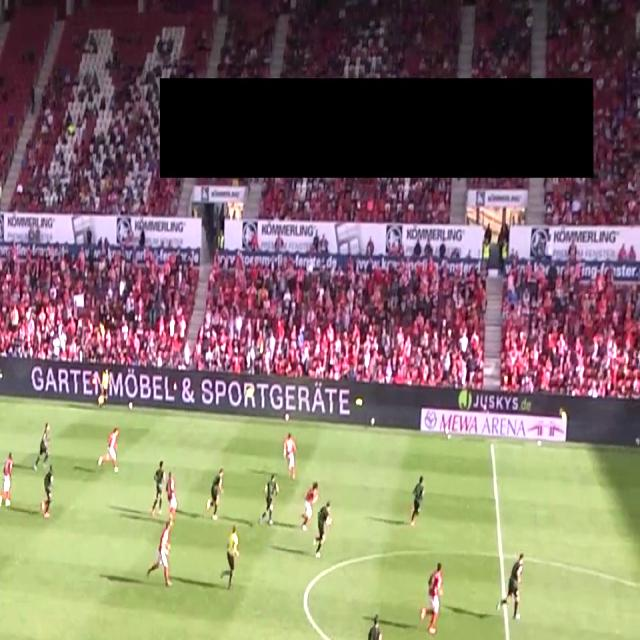referee: (217, 524, 243, 594)
soccer-player: (138, 518, 178, 592), (294, 478, 327, 563), (415, 558, 448, 640), (495, 547, 527, 624), (308, 488, 338, 564), (147, 459, 174, 521), (204, 464, 230, 526), (405, 470, 430, 532), (95, 423, 123, 478), (260, 474, 283, 530), (0, 449, 19, 516), (35, 419, 57, 472), (351, 612, 389, 640), (39, 472, 59, 525), (280, 430, 299, 482)
